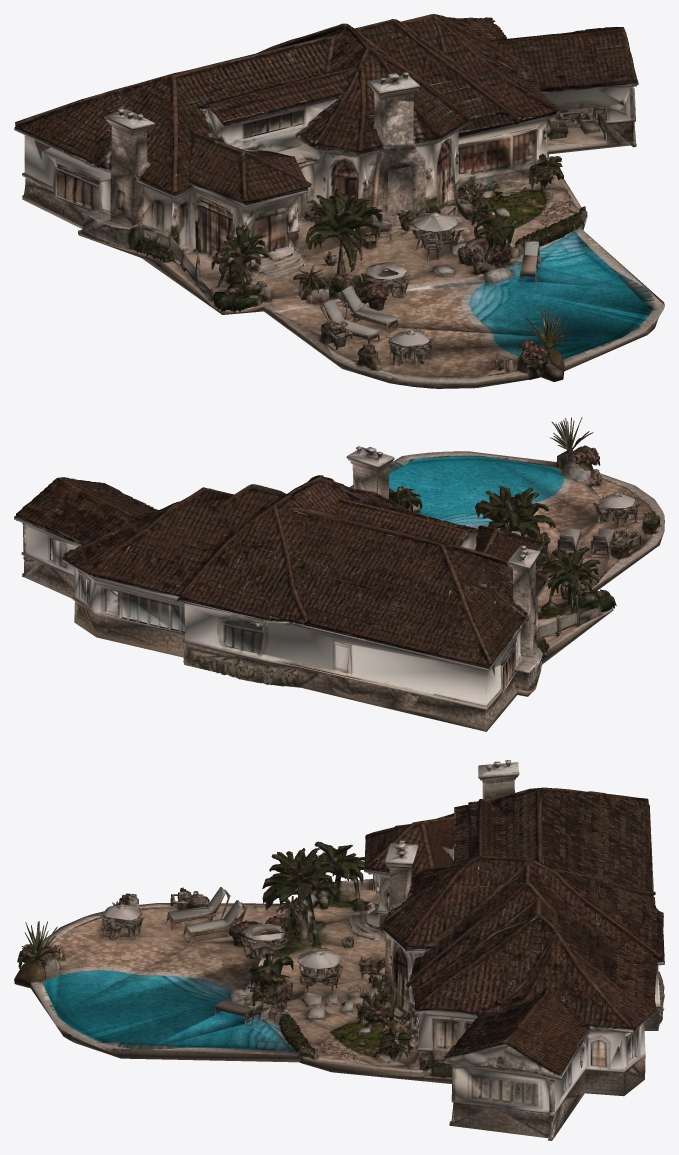
The model's file is house.glb.
3 renders of one model, top to bottom at view 1: azimuth 30°, elevation 25°; view 2: azimuth 150°, elevation 25°; view 3: azimuth 270°, elevation 25°, orthographic. The views are drawn at different scales.
Parts seen in each view (by area): view 1: mesh_node; view 2: mesh_node; view 3: mesh_node.
Part boxes in pixels (box(x1,y1,x2,y2)): mesh_node: box(14, 14, 664, 388); mesh_node: box(14, 417, 664, 731); mesh_node: box(14, 760, 664, 1140).
Size of the model in its own units: 1.84 by 0.4881 by 1.89.
1 material, 1 textured.
